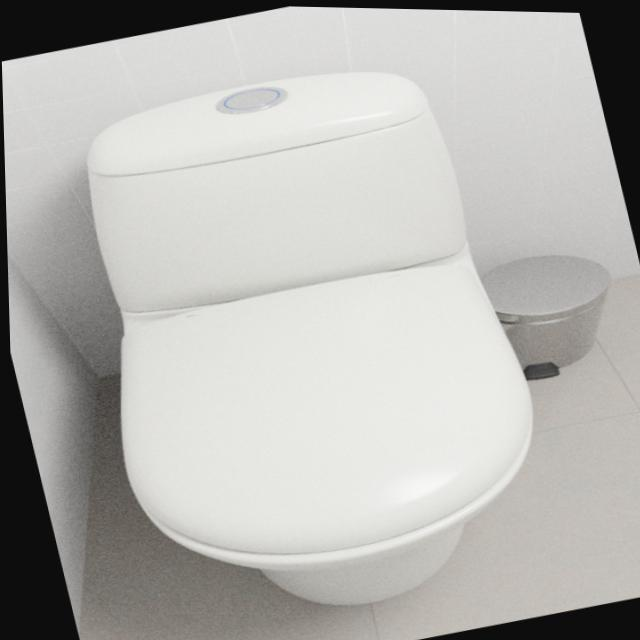toilet: (37, 36, 571, 640)
